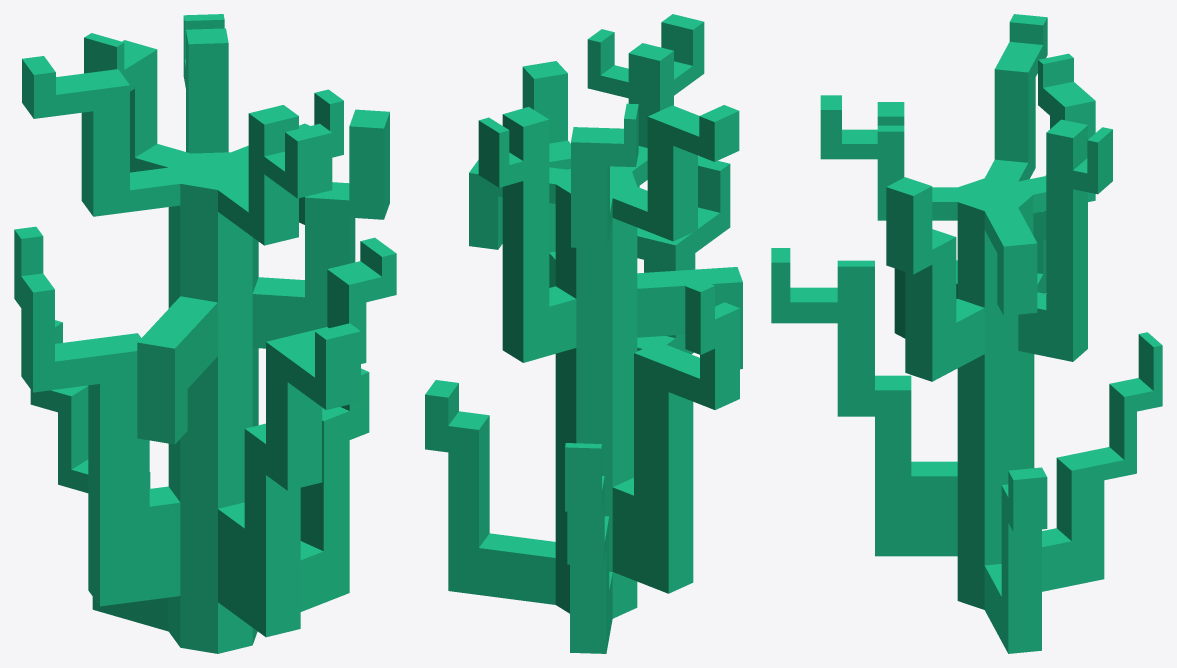
Rendered from seasponge2.fbx.
The picture shows the model from 3 angles, left to right: view 1: azimuth 30°, elevation 25°; view 2: azimuth 150°, elevation 25°; view 3: azimuth 270°, elevation 25°; orthographic projection. The views are drawn at different scales.
Visible parts, largest first — view 1: Cylinder; view 2: Cylinder; view 3: Cylinder.
Boxes of the visible parts, bbox=[...] form: Cylinder: bbox=[14, 14, 396, 653]; Cylinder: bbox=[425, 14, 742, 653]; Cylinder: bbox=[771, 14, 1162, 653].
Size of the model in its own units: 558 by 940 by 655.
